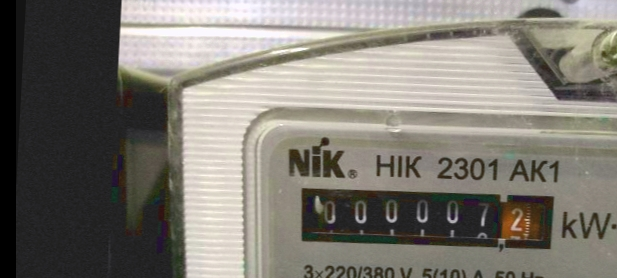0: (352, 196, 371, 225), (321, 196, 340, 224), (383, 195, 402, 223), (445, 196, 462, 224), (415, 195, 431, 223)
2: (509, 203, 527, 233)
7: (474, 198, 492, 228)
screen: (291, 173, 568, 259)
